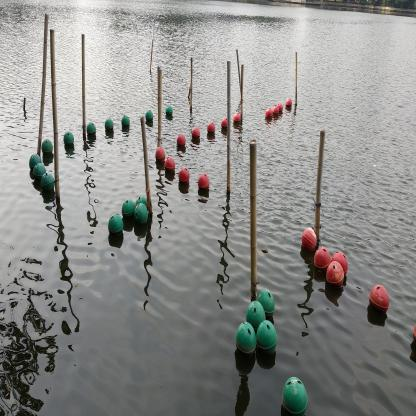green_buoy: (284, 376, 308, 414), (235, 322, 256, 359), (256, 321, 279, 354), (133, 205, 150, 235), (260, 288, 276, 318), (246, 300, 266, 323), (108, 212, 125, 239), (32, 162, 46, 190), (41, 173, 55, 194), (122, 199, 134, 222), (62, 129, 75, 147), (86, 121, 98, 140), (42, 138, 53, 157), (104, 115, 114, 133), (30, 150, 40, 164), (122, 115, 130, 132), (165, 105, 173, 121), (145, 110, 153, 125)
red_buoy: (370, 283, 389, 321), (326, 259, 346, 293), (301, 223, 319, 255), (314, 248, 330, 278), (178, 167, 192, 189), (198, 172, 211, 192), (155, 146, 166, 169), (176, 131, 186, 153), (165, 156, 176, 175), (233, 110, 241, 129), (206, 121, 216, 136), (191, 125, 200, 141), (284, 98, 292, 112), (221, 118, 228, 133), (266, 107, 272, 121), (273, 104, 279, 118)
